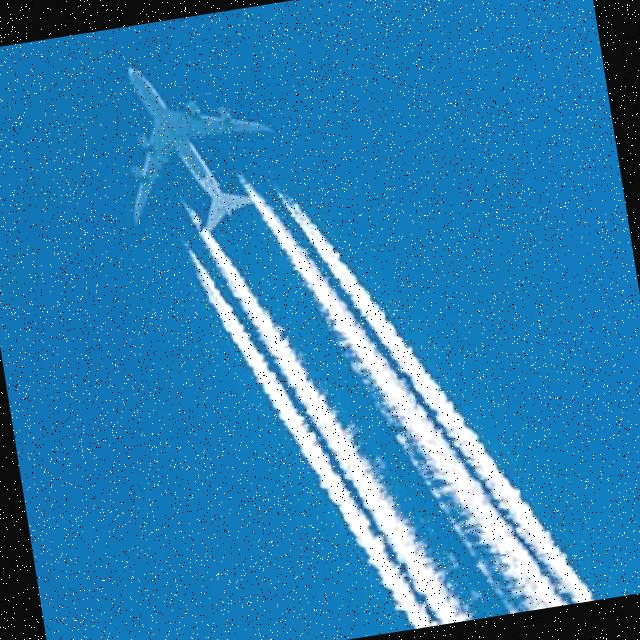Ct: (165, 185, 622, 640)
